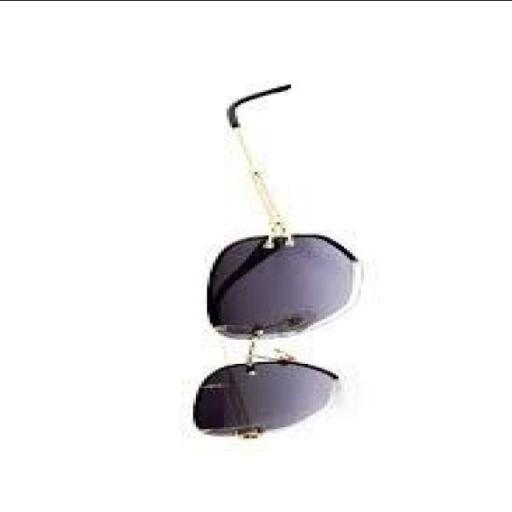glasses: (170, 209, 386, 459)
